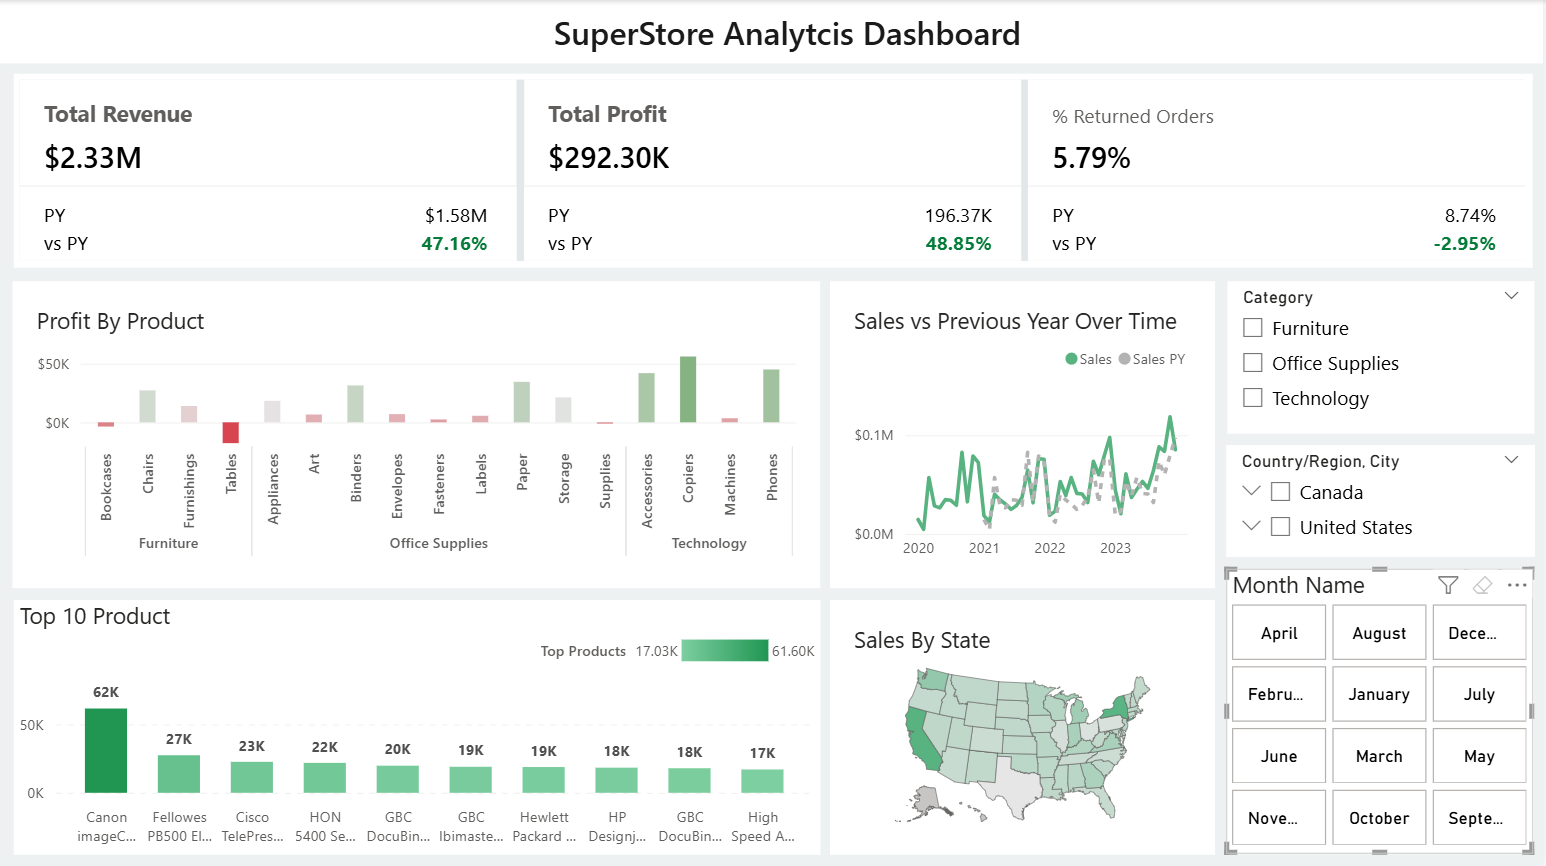

What the dashboard file says about the page in this screenshot:
{"tool":"powerbi","page":{"name":"Page 1","canvas":[1280,720],"ordinal":0},"visuals":[{"type":"cardVisual","fields":{"Data":["Key Measures.Sales","Key Measures.Profit","Key Measures.% Returned Orders"]},"box":[11.2,61.4,1259.6,160.8],"z":0},{"type":"shape","box":[0,0,1280.8,52.5],"z":1000},{"type":"lineChart","title":"Sales vs Previous Year Over Time","fields":{"Y":["Key Measures.Sales","Key Measures.Sales PY"],"Category":["Data Table.Start of month"]},"box":[687.8,233.4,319.4,254.6],"z":2000},{"type":"ribbonChart","title":"Profit By Product","fields":{"Y":["Key Measures.Profit"],"Category":["Orders.Category","Orders.Sub-Category"]},"box":[10,233.4,670,254.6],"z":3000},{"type":"shapeMap","title":"Sales By State","fields":{"Value":["Key Measures.Profit"],"Category":["Orders.State/Province"]},"box":[687.8,496.9,319.4,211],"z":4000},{"type":"columnChart","title":"Top 10 Product","fields":{"Y":["Key Measures.Sales by Product"],"Category":["Orders.Product Name"]},"box":[11.2,496.9,668.9,211],"z":5000},{"type":"slicer","fields":{"Values":["Orders.Category"]},"box":[1017.3,233.4,254.6,126.2],"z":6000},{"type":"slicer","fields":{"Values":["Orders.Country/Region","Orders.City"]},"box":[1016.1,368.5,255.7,92.7],"z":7000},{"type":"advancedSlicerVisual","fields":{"Values":["Data Table.Month Name"]},"box":[1016.3,471.3,255.3,236.9],"z":8000}]}

Visuals, with their boxes in screenshot pixels (x1, y1, x2, y2), scaled from the page's 1280x720 canvas onto the 1546x866 screenshot:
cardVisual - Key Measures.Sales x Key Measures.Profit: crop(14, 74, 1535, 267)
shape: crop(0, 0, 1545, 63)
"Sales vs Previous Year Over Time" lineChart: crop(831, 281, 1217, 587)
"Profit By Product" ribbonChart: crop(12, 281, 821, 587)
"Sales By State" shapeMap: crop(831, 598, 1217, 851)
"Top 10 Product" columnChart: crop(14, 598, 821, 851)
slicer - Orders.Category: crop(1229, 281, 1536, 433)
slicer - Orders.Country/Region x Orders.City: crop(1227, 443, 1536, 555)
advancedSlicerVisual - Data Table.Month Name: crop(1227, 567, 1536, 852)
